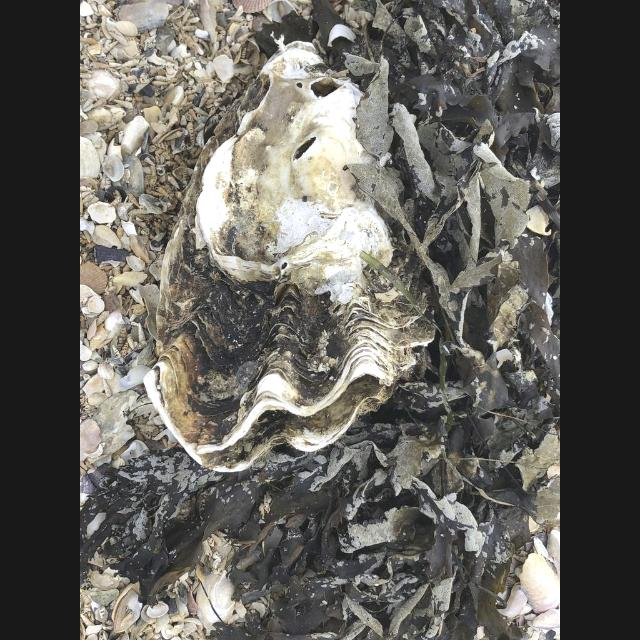Oyster-Open: (142, 37, 438, 473)
